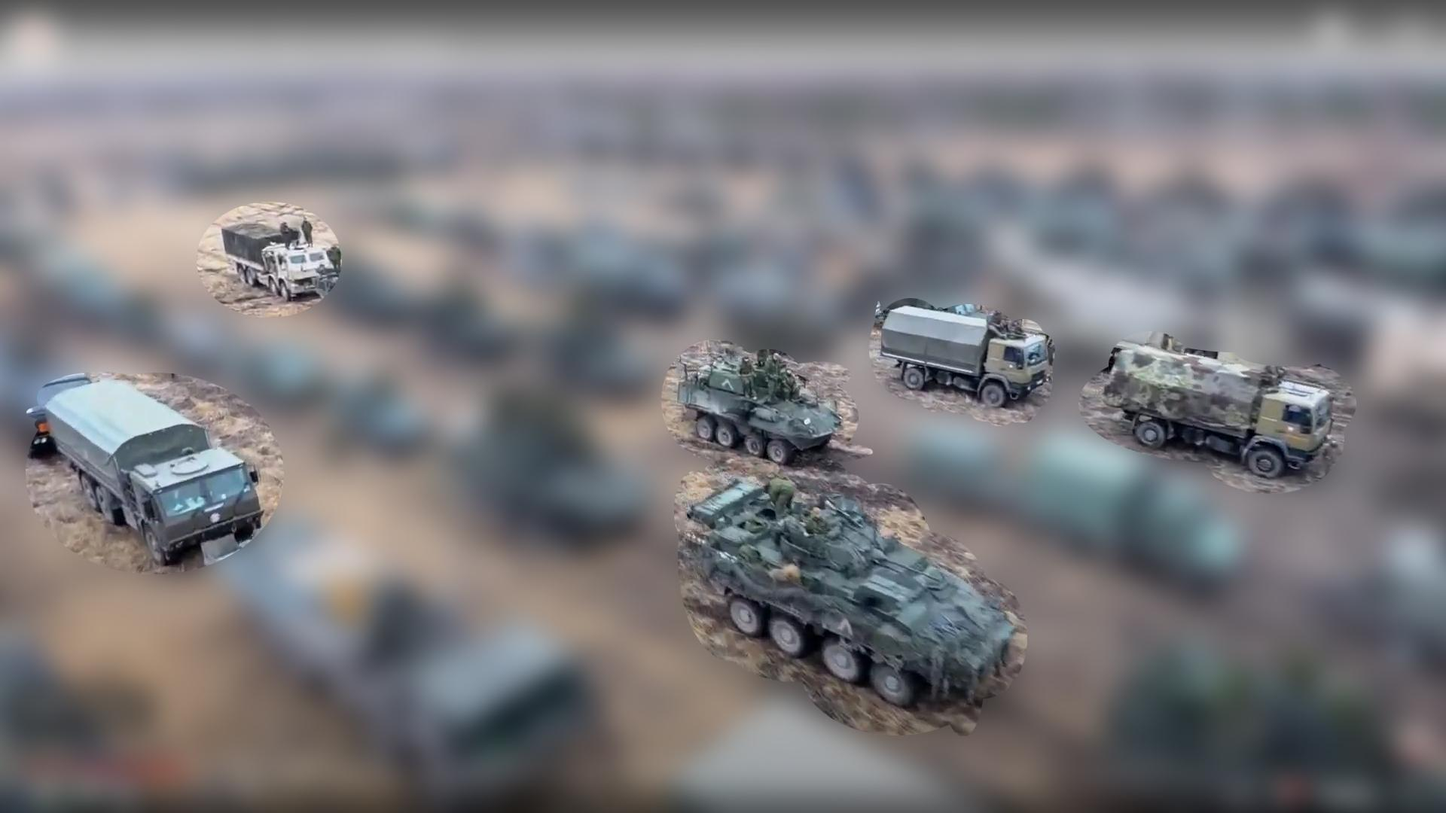armored_car: (690, 478, 1019, 710), (675, 340, 842, 468)
truck: (46, 381, 261, 563), (1097, 344, 1338, 482), (875, 304, 1051, 410), (217, 218, 338, 307)
